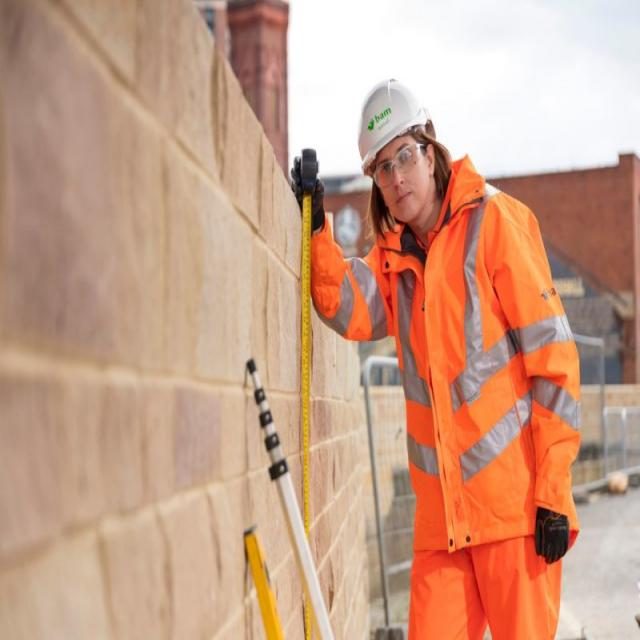Reflective-Jacket: (352, 178, 580, 632)
Safety-Helmet: (351, 67, 433, 174)
